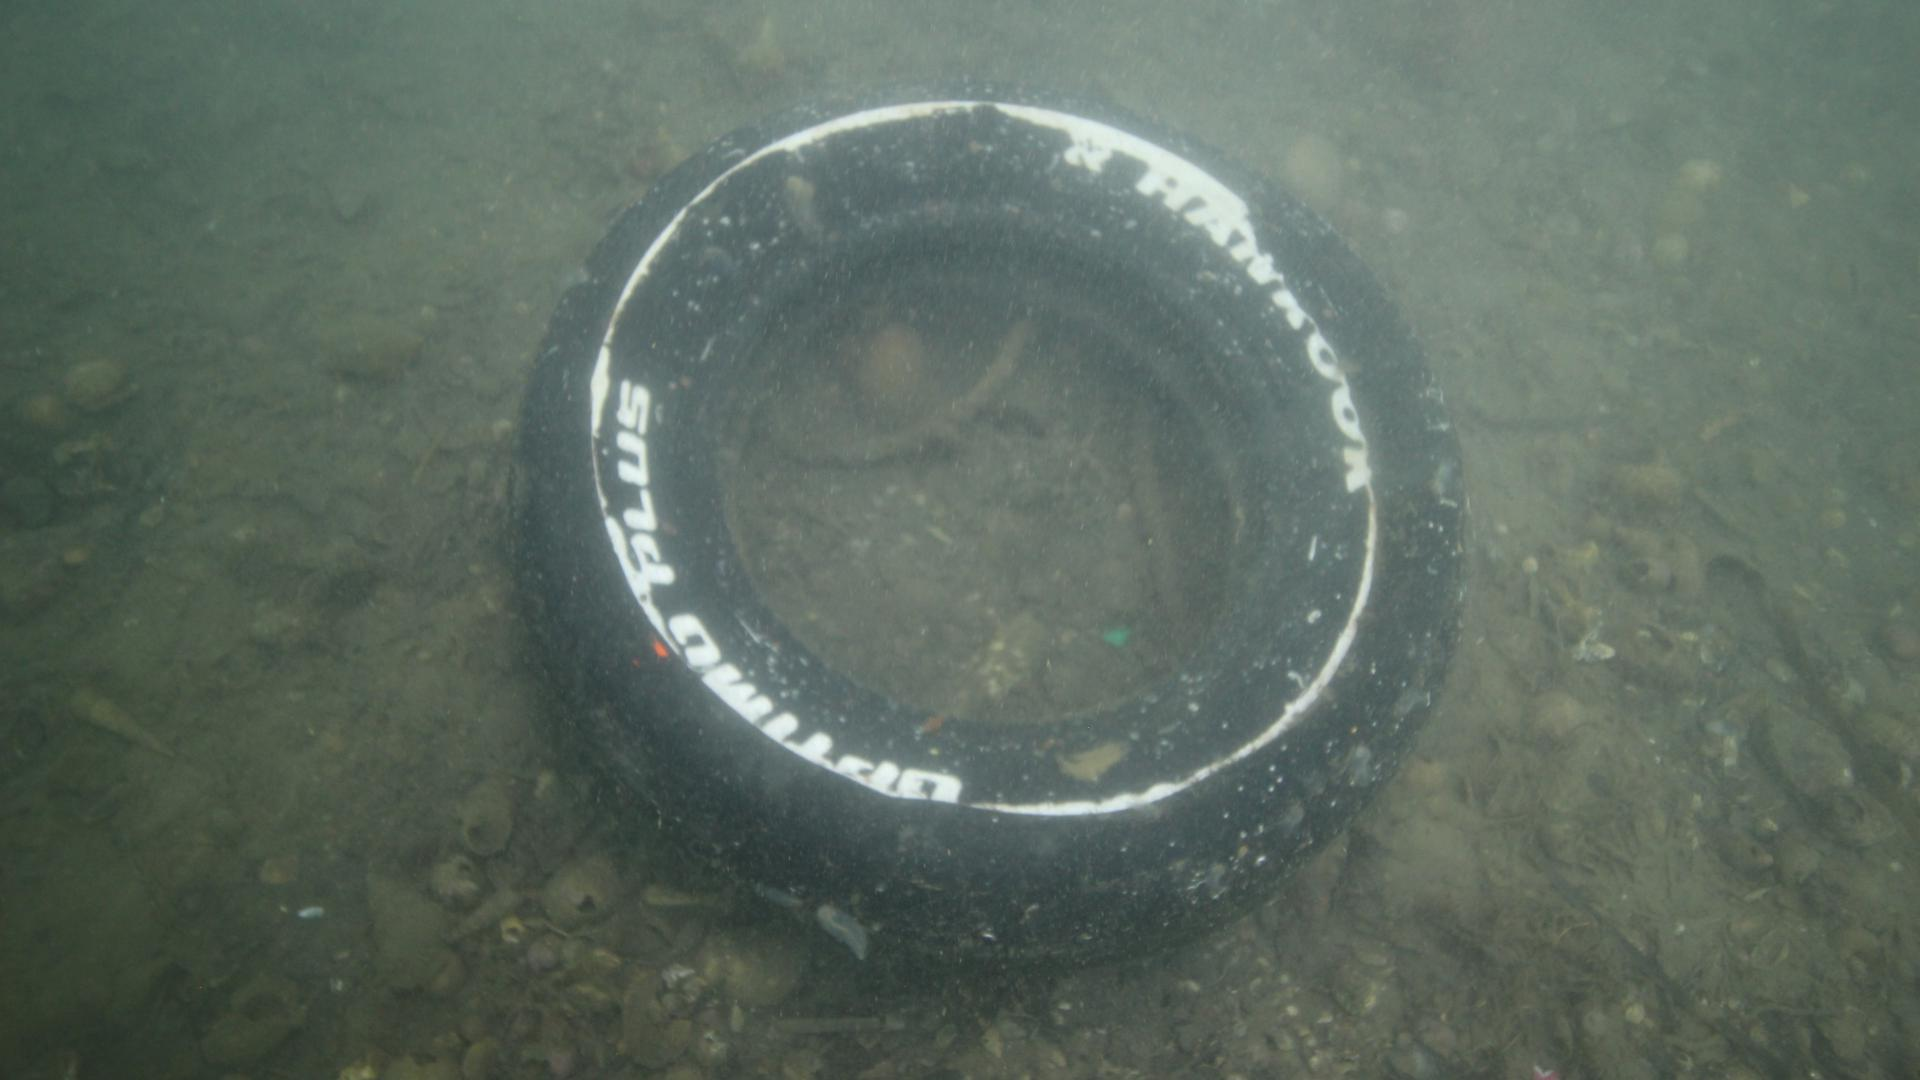tire: (502, 76, 1472, 967)
